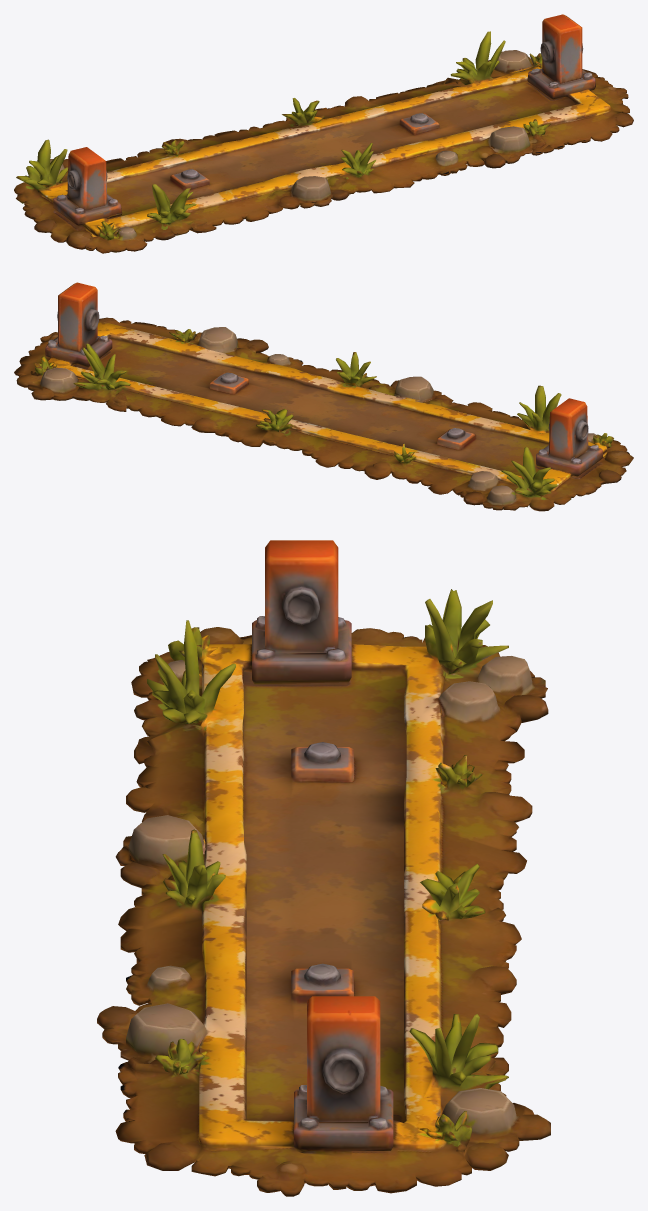
Rendered from tripo_convert_0907c5b8-5bbb-4b4c-a8ce-7b179e7ea225.fbx.
3 views of the same model, one above another, from view 1: azimuth 30°, elevation 25°; view 2: azimuth 150°, elevation 25°; view 3: azimuth 270°, elevation 25° (orthographic). The views are drawn at different scales.
Parts seen in each view (by area): view 1: tripo_node_0907c5b8; view 2: tripo_node_0907c5b8; view 3: tripo_node_0907c5b8.
Part boxes in pixels (bbox=[...]): tripo_node_0907c5b8: bbox=[14, 14, 633, 253]; tripo_node_0907c5b8: bbox=[14, 282, 633, 511]; tripo_node_0907c5b8: bbox=[97, 540, 550, 1196].
Size of the model in its own units: 0.9786 by 0.1168 by 0.3313.
1 material, 1 textured.
